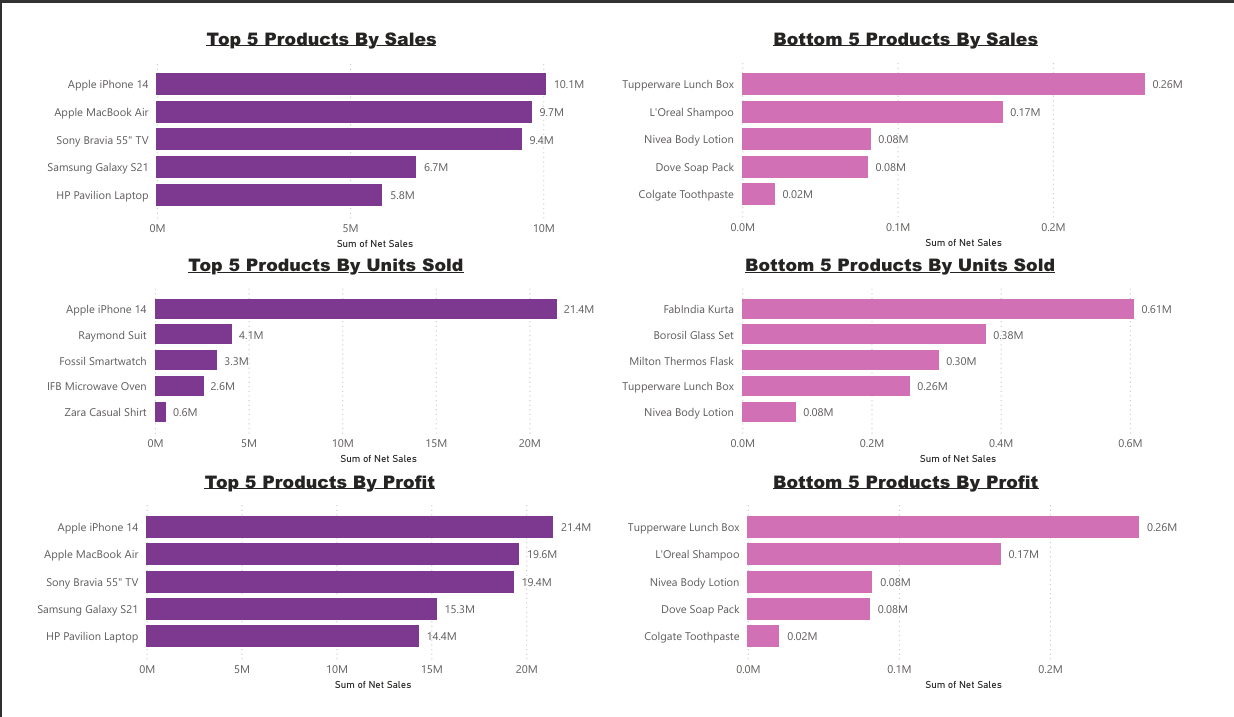

What the dashboard file says about the page in this screenshot:
{"tool":"powerbi","page":{"name":"Top/Bottom 5 Analysis","canvas":[1280,720],"ordinal":1},"visuals":[{"type":"barChart","title":"Top 5 Products By Sales","fields":{"Category":["Dim Product.Product Name"],"Y":["Sum(Fact.Net Sales)"]},"box":[10.5,0,619.4,245],"z":0},{"type":"barChart","title":"Bottom 5 Products By Sales","fields":{"Category":["Dim Product.Product Name"],"Y":["Sum(Fact.Net Sales)"]},"box":[630.3,0,639.6,244.5],"z":1000},{"type":"barChart","title":"Top 5 Products By Units Sold","fields":{"Category":["Dim Product.Product Name"],"Y":["Sum(Fact.Net Sales)"]},"box":[10.4,244.5,629.2,232.9],"z":2000},{"type":"barChart","title":"Bottom 5 Products By Units Sold","fields":{"Category":["Dim Product.Product Name"],"Y":["Sum(Fact.Net Sales)"]},"box":[630.3,244.5,628,232.9],"z":3000},{"type":"barChart","title":"Top 5 Products By Profit","fields":{"Category":["Dim Product.Product Name"],"Y":["Sum(Fact.Net Sales)"]},"box":[0,477.4,637.3,242.2],"z":4000},{"type":"barChart","title":"Bottom 5 Products By Profit","fields":{"Category":["Dim Product.Product Name"],"Y":["Sum(Fact.Net Sales)"]},"box":[636.1,477.4,628,242.2],"z":5000}]}

Visuals, with their boxes on the page's 1280x720 design canvas (x1, y1, x2, y2). These are canvas units, not pixel positions in the 1234x717 screenshot, which may show the page scaled, cropped or inside an application window:
"Top 5 Products By Sales" barChart: (10, 0, 630, 245)
"Bottom 5 Products By Sales" barChart: (630, 0, 1270, 244)
"Top 5 Products By Units Sold" barChart: (10, 244, 640, 477)
"Bottom 5 Products By Units Sold" barChart: (630, 244, 1258, 477)
"Top 5 Products By Profit" barChart: (0, 477, 637, 720)
"Bottom 5 Products By Profit" barChart: (636, 477, 1264, 720)
